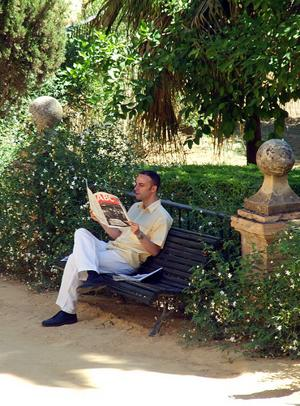person: (44, 172, 174, 327)
